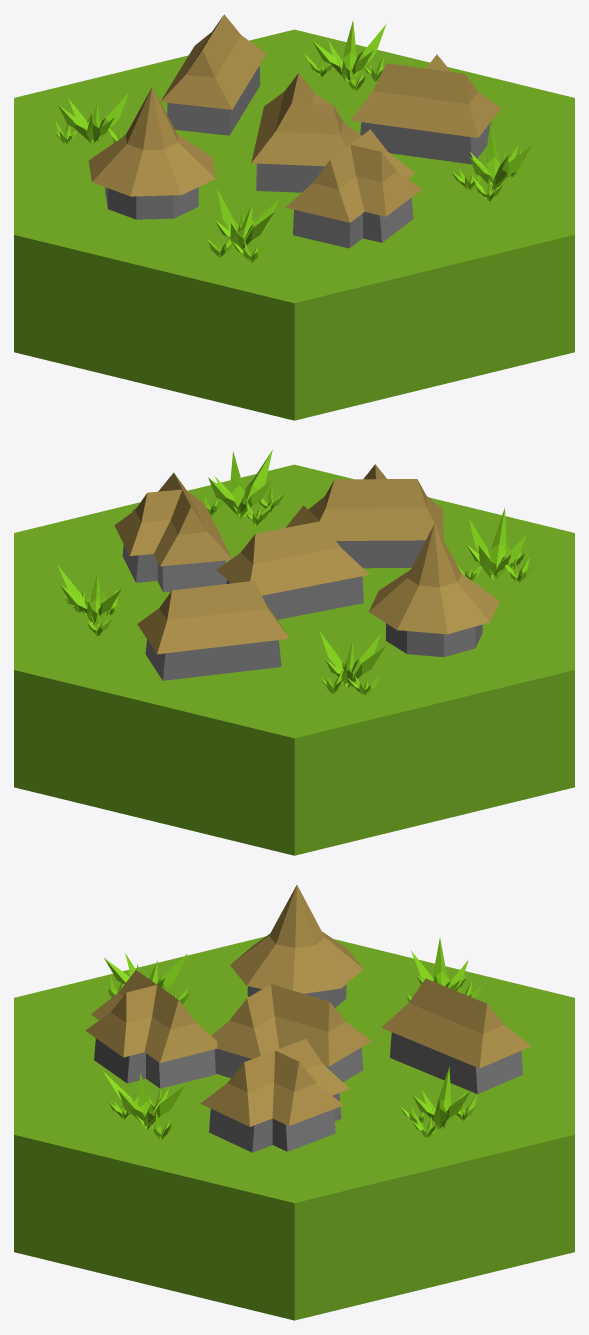
The model's file is Casas_02.fbx.
3 renders of one model, top to bottom at view 1: azimuth 30°, elevation 25°; view 2: azimuth 150°, elevation 25°; view 3: azimuth 270°, elevation 25°, orthographic.
Parts seen in each view (by area): view 1: Casas_02; view 2: Casas_02; view 3: Casas_02.
Boxes of the visible parts, <box> form: Casas_02: <box>14,14,574,420</box>; Casas_02: <box>14,450,574,855</box>; Casas_02: <box>14,885,574,1320</box>.
Size of the model in its own units: 200 by 78.5 by 173.
